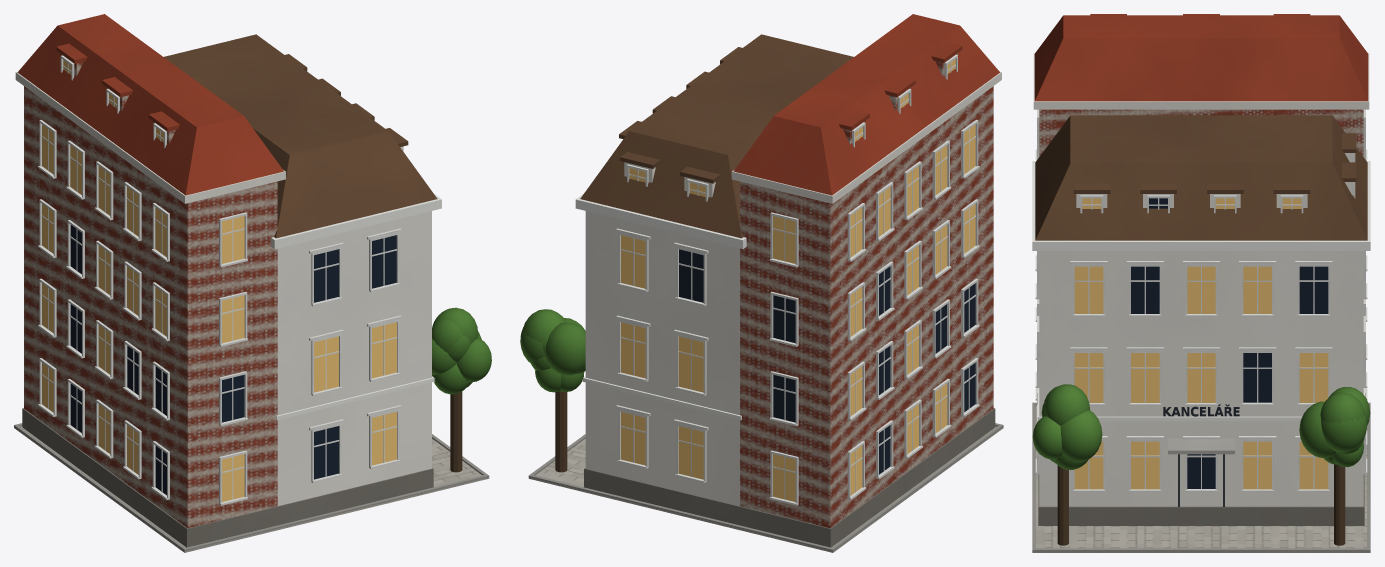
Rendered from dum_13_kancelarsky_blok.glb.
3 renders of one model, left to right at view 1: azimuth 30°, elevation 25°; view 2: azimuth 150°, elevation 25°; view 3: azimuth 270°, elevation 25°, orthographic.
Visible parts, largest first — view 1: dum, noc; view 2: dum, noc; view 3: dum, noc.
Boxes of the visible parts, left/top/right/bottom form: dum: left=14, top=14, right=491, bottom=552; noc: left=42, top=60, right=396, bottom=501; dum: left=520, top=14, right=1003, bottom=552; noc: left=621, top=59, right=975, bottom=501; dum: left=1032, top=14, right=1370, bottom=552; noc: left=1074, top=198, right=1328, bottom=489.
Bounding box in the file's own units: 13.19 × 15.86 × 12.05.
1 material, 1 textured.
